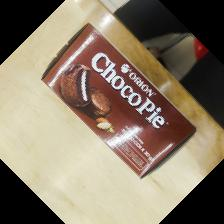Chocopie_cacao: (39, 23, 199, 179)
